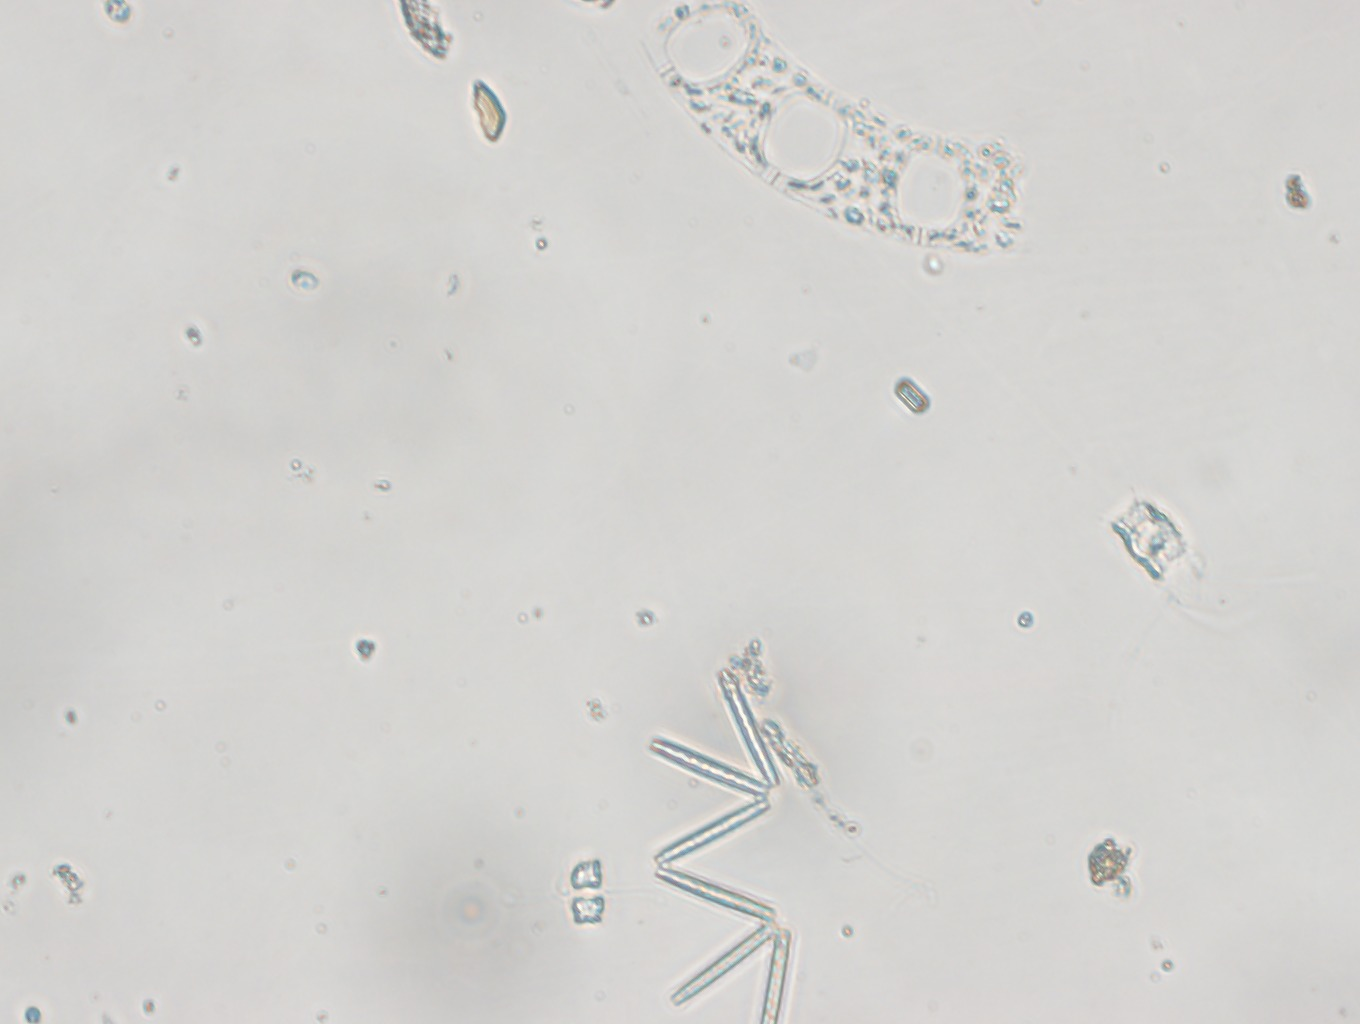eucampia: (625, 4, 1031, 255)
thalassionema nitzschioides: (645, 669, 822, 1024)
